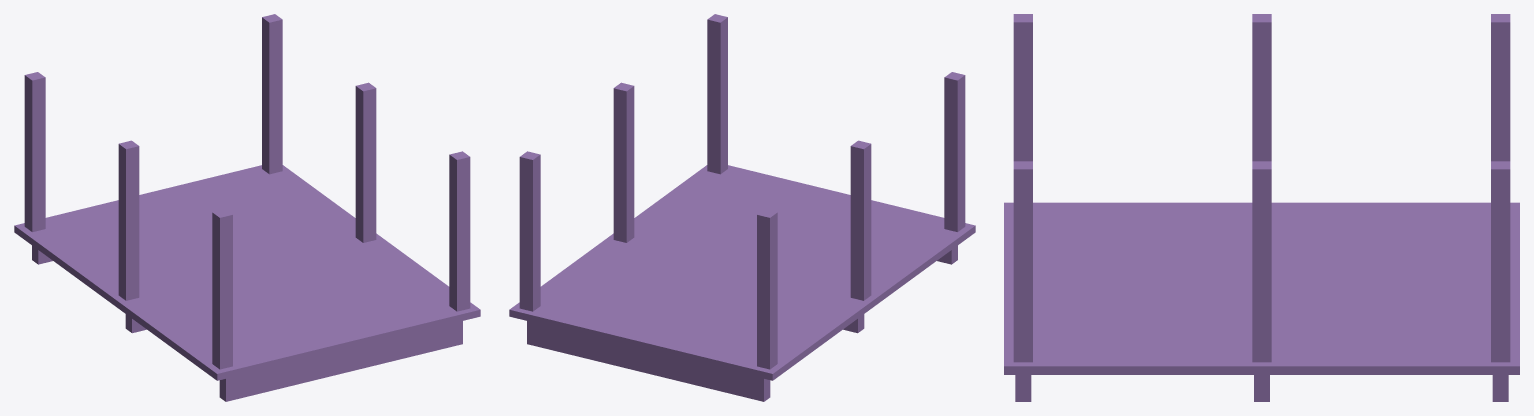
Rendered from opsi.glb.
3 renders of one model, left to right at view 1: azimuth 30°, elevation 25°; view 2: azimuth 150°, elevation 25°; view 3: azimuth 270°, elevation 25°, orthographic. The views are drawn at different scales.
Visible parts, largest first — view 1: opsi; view 2: opsi; view 3: opsi.
Part boxes in pixels (<box>): opsi: <box>14,14,480,401</box>; opsi: <box>509,14,975,401</box>; opsi: <box>1004,14,1519,401</box>.
Bounding box in the file's own units: 6 × 4.05 × 8.
